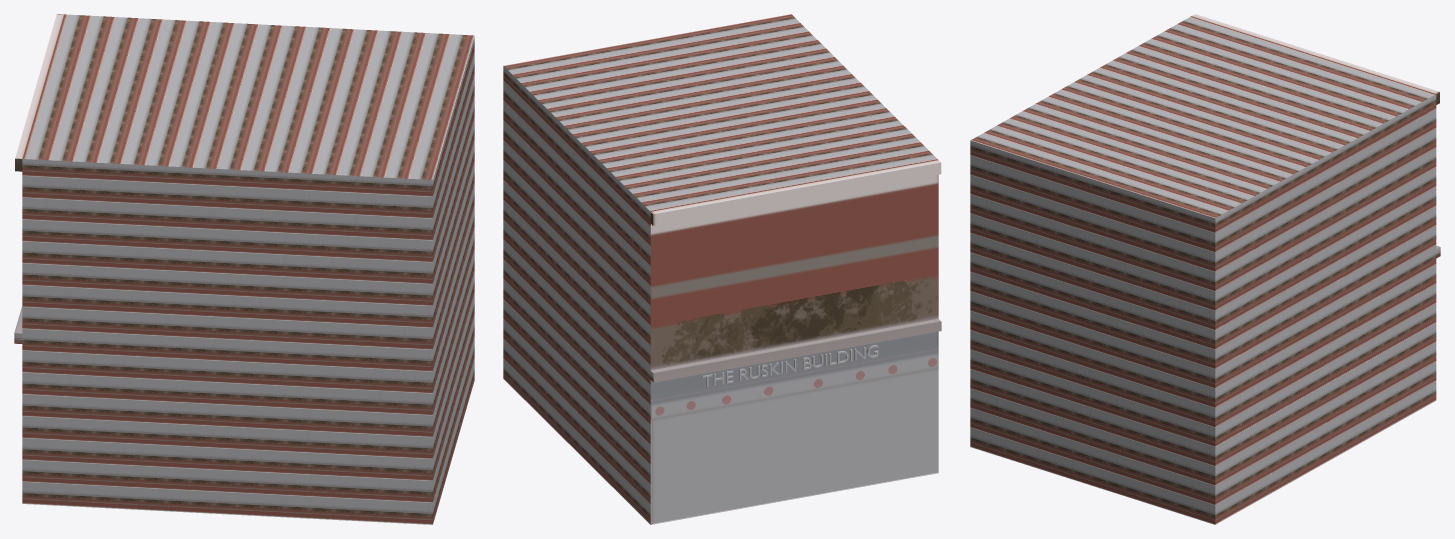
File: Ruskin Buildings.fbx
The picture shows the model from 3 angles, left to right: view 1: azimuth 30°, elevation 25°; view 2: azimuth 150°, elevation 25°; view 3: azimuth 270°, elevation 25°; orthographic projection. The views are drawn at different scales.
Parts seen in each view (by area): view 1: Ruskin Buildings; view 2: Ruskin Buildings; view 3: Ruskin Buildings.
Boxes of the visible parts, x1,y1,x2,y2 form: Ruskin Buildings: [14, 14, 474, 524]; Ruskin Buildings: [503, 14, 941, 524]; Ruskin Buildings: [970, 14, 1440, 524].
Size of the model in its own units: 2257 by 1578 by 2193.
